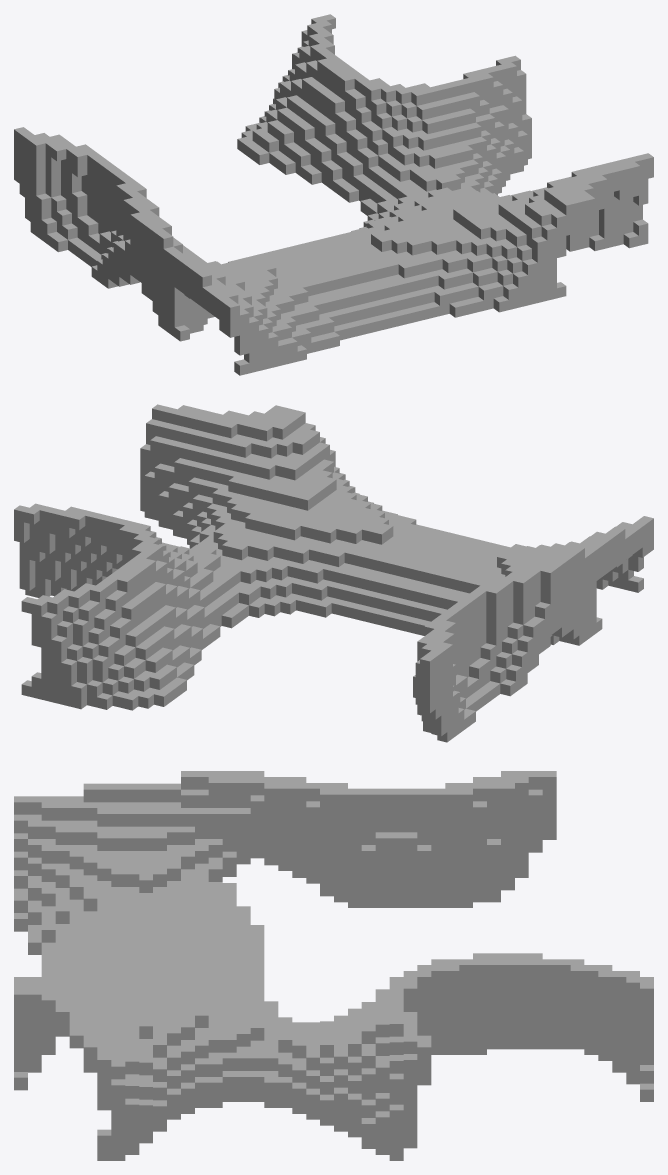
The model's file is church6-6.obj.
3 renders of one model, top to bottom at view 1: azimuth 30°, elevation 25°; view 2: azimuth 150°, elevation 25°; view 3: azimuth 270°, elevation 25°, orthographic. The views are drawn at different scales.
Parts seen in each view (by area): view 1: church6-6; view 2: church6-6; view 3: church6-6.
Part boxes in pixels (box(x1,y1,x2,y2)): church6-6: box(14, 14, 653, 375); church6-6: box(14, 404, 653, 742); church6-6: box(14, 771, 653, 1160).
Bounding box in the file's own units: 47 × 9 × 46.
1 material, 1 textured.
